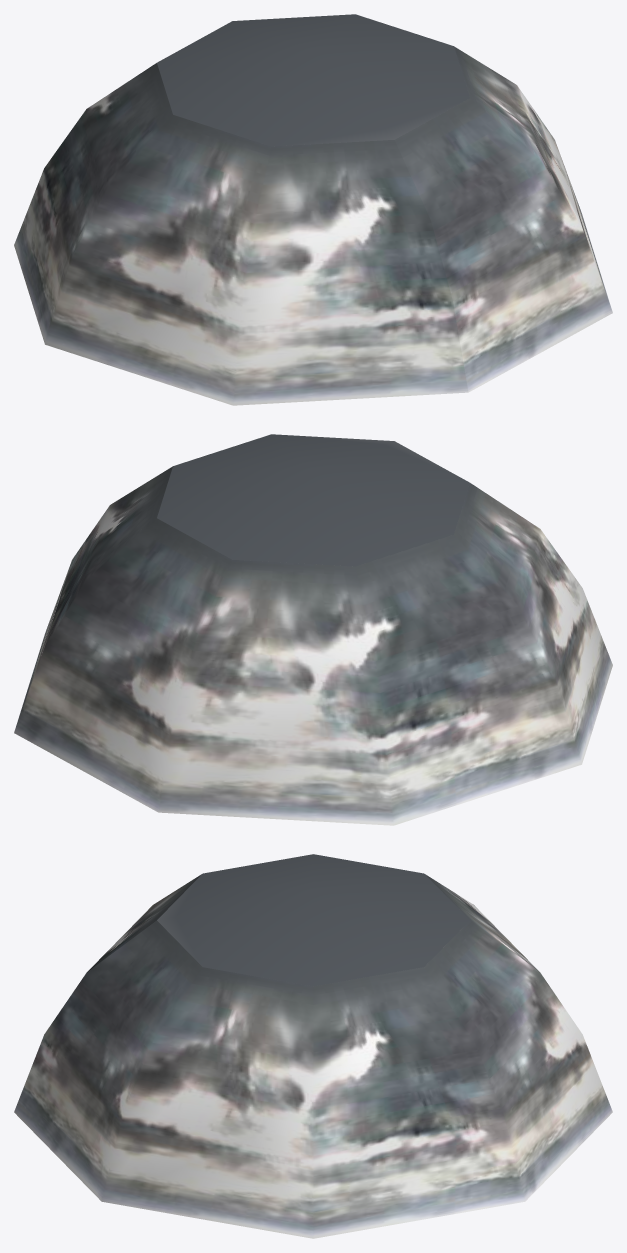
3 views of the same model, one above another, from view 1: azimuth 30°, elevation 25°; view 2: azimuth 150°, elevation 25°; view 3: azimuth 270°, elevation 25° (orthographic). The views are drawn at different scales.
Visible parts, largest first — view 1: Sphere01; view 2: Sphere01; view 3: Sphere01.
Boxes of the visible parts, x1,y1,x2,y2 form: Sphere01: (14,14,612,405); Sphere01: (14,434,612,825); Sphere01: (14,854,612,1238).
Bounding box in the file's own units: 9129 × 3710 × 9129.
